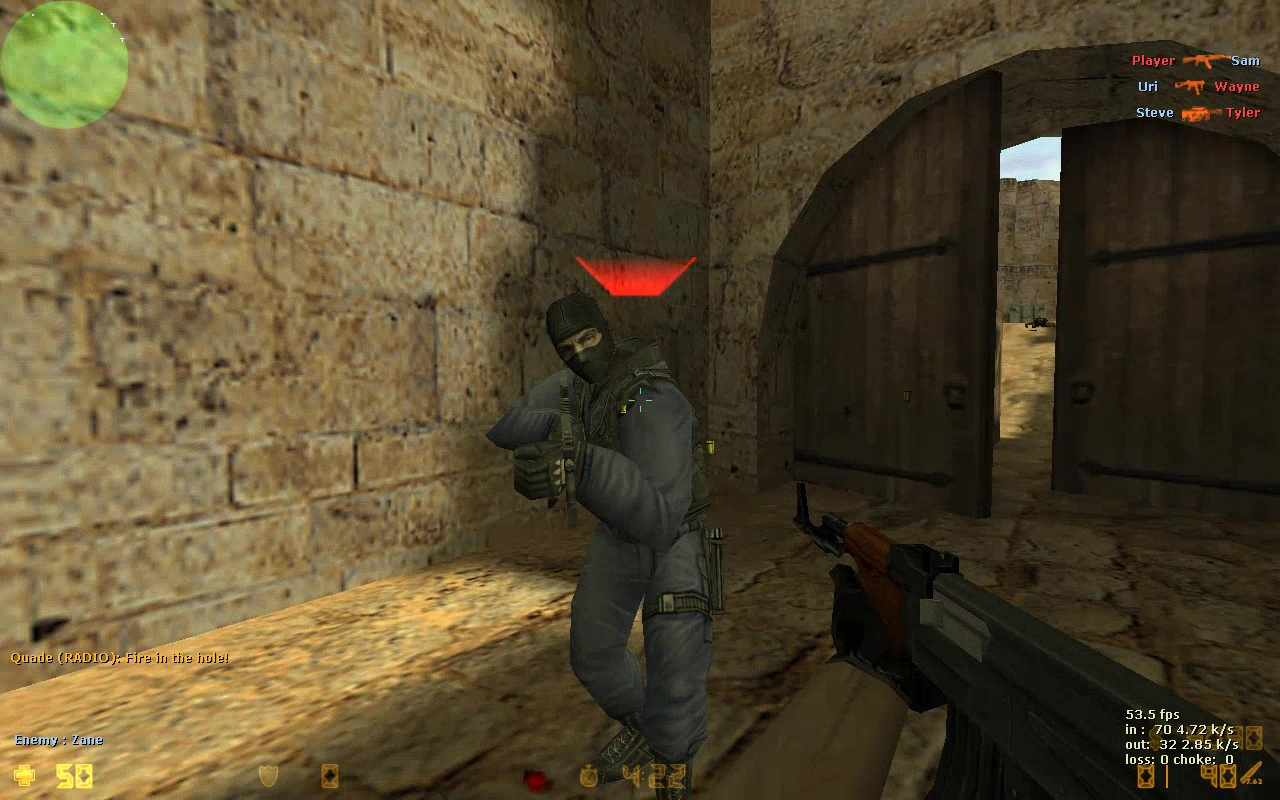ct: (487, 291, 723, 800)
